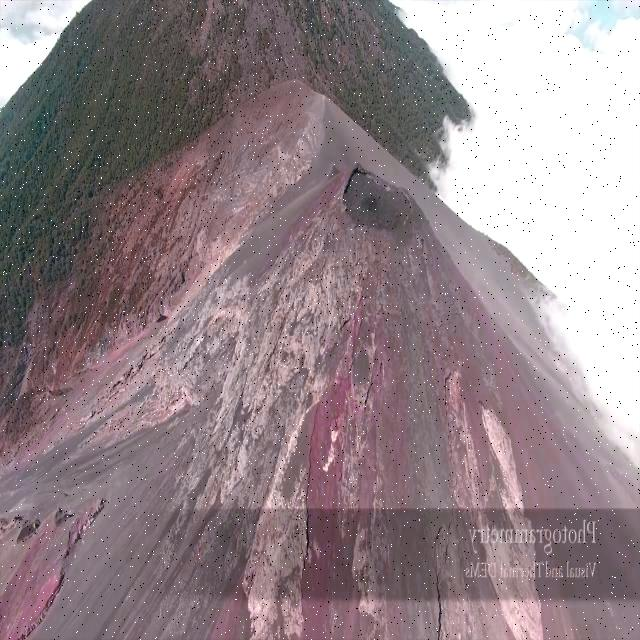Summit: (162, 152, 540, 510)
